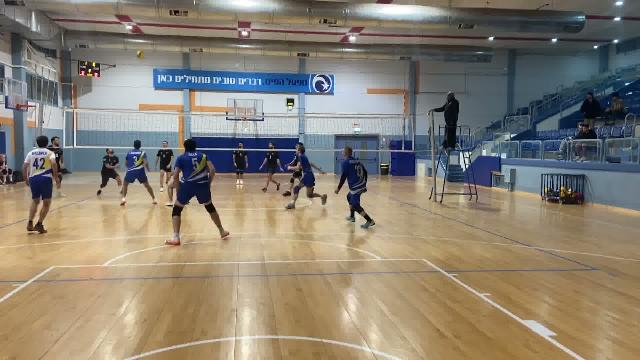ball: (136, 49, 146, 59)
